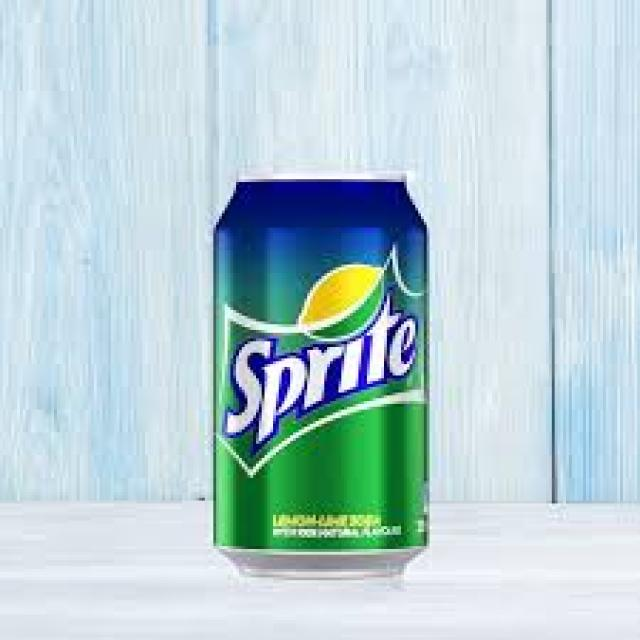aluminum_can: (216, 182, 430, 570)
